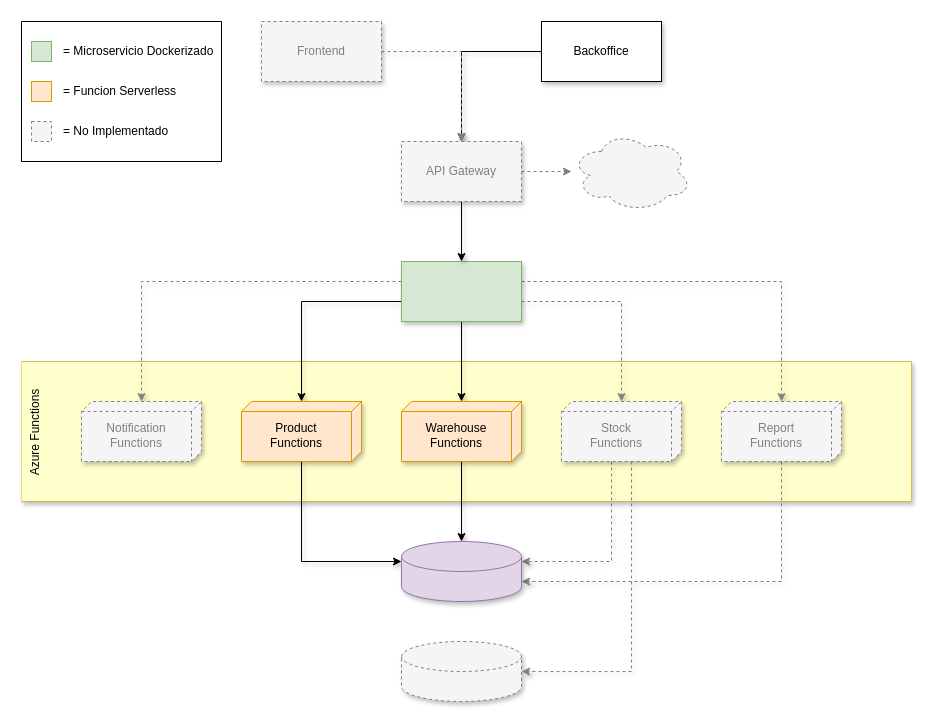
Image size: 935x726. Some labels were removed from this diagram. The centre of each missing label's shape, as x and y in pixels:
BFF: pixel 462 292
Blob Storage: pixel 462 672
IDaaS: pixel 631 171
Oracle DB: pixel 462 572
